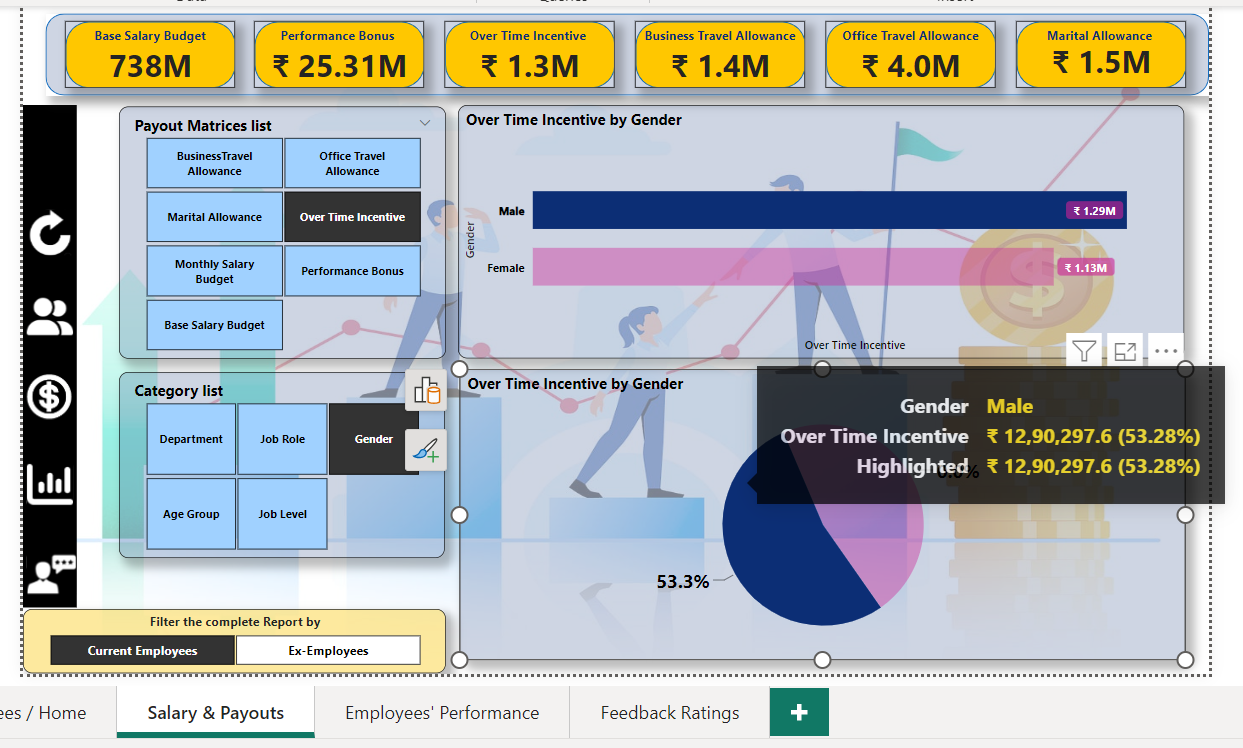

Layout of this report page (visuals, bound fields, positions):
{"tool":"powerbi","page":{"name":"Salary & Payouts","canvas":[1280,720],"ordinal":1},"visuals":[{"type":"shape","title":"backgroung","box":[24.3,8.1,1255,88.3],"z":0,"group":"g2"},{"type":"shape","box":[45.6,16.1,183.3,71.7],"z":0,"group":"g1"},{"type":"shape","box":[249.6,16.7,183.3,71.7],"z":0,"group":"g6"},{"type":"shape","box":[455,16.7,183.3,71.7],"z":0,"group":"g5"},{"type":"shape","box":[660.9,16.7,183.3,71.7],"z":0,"group":"g7"},{"type":"shape","box":[865.6,16.7,183.3,71.7],"z":0,"group":"g4"},{"type":"shape","box":[1071,16.7,183.3,71.7],"z":0,"group":"g3"},{"type":"actionButton","box":[0,212,58.2,64.7],"z":0,"group":"g8"},{"type":"slicer","title":"Filter the complete Report by","fields":{"Values":["Employees.attrition label"]},"box":[0,650.4,456.3,69.6],"z":0},{"type":"group","id":"g1","title":"Group 2","box":[45.6,16.1,183.3,71.7],"z":1000,"group":"g2"},{"type":"textbox","box":[45.6,16.1,183.3,36.7],"z":1000,"group":"g1"},{"type":"textbox","box":[249.6,16.7,183.3,36.7],"z":1000,"group":"g6"},{"type":"textbox","box":[455,16.7,183.3,36.7],"z":1000,"group":"g5"},{"type":"textbox","box":[660.3,16.7,183.3,36.7],"z":1000,"group":"g7"},{"type":"textbox","box":[865.6,16.7,183.3,36.7],"z":1000,"group":"g4"},{"type":"textbox","box":[1071,16.7,183.3,36.7],"z":1000,"group":"g3"},{"type":"shape","box":[0,106.8,58.2,542],"z":1000},{"type":"actionButton","box":[0,305.8,58.2,58.2],"z":1000,"group":"g8"},{"type":"group","id":"g2","title":"Group 3","box":[24.3,8.1,1255,88.3],"z":2000},{"type":"group","id":"g3","title":"Group 2","box":[1071,16.7,183.3,71.7],"z":2000,"group":"g2"},{"type":"card","title":"card","fields":{"Values":["Measures Table.$ Marital Allowance Paid Amount"]},"box":[1071.6,36.5,183.3,46.7],"z":2000,"group":"g3"},{"type":"card","title":"card","fields":{"Values":["Measures Table.$ yearly (base) Salary Budget"]},"box":[45.6,41.1,183.3,46.7],"z":2000,"group":"g1"},{"type":"card","title":"card","fields":{"Values":["Measures Table.$ Performance Bonus amount Paid"]},"box":[249.6,41.7,183.3,46.7],"z":2000,"group":"g6"},{"type":"card","title":"card","fields":{"Values":["Measures Table.$ Over Time Incentive Amount Paid"]},"box":[455,41.7,183.3,46.7],"z":2000,"group":"g5"},{"type":"card","title":"card","fields":{"Values":["Measures Table.$ BusinessTravel Allowance Paid Amount"]},"box":[660.3,41.7,183.3,46.7],"z":2000,"group":"g7"},{"type":"card","title":"card","fields":{"Values":["Measures Table.$ Office Travel Allowance Paid Amount"]},"box":[865.6,41.7,183.3,46.7],"z":2000,"group":"g4"},{"type":"actionButton","box":[0,393.2,58.2,56.6],"z":2000,"group":"g8"},{"type":"group","id":"g4","title":"Group 2","box":[865.6,16.7,183.3,71.7],"z":3000,"group":"g2"},{"type":"slicer","fields":{"Values":["#Parameter set of Payout Matrices.#Parameter set of Payout Matrices"]},"box":[103.6,108.4,352.7,271.8],"z":3000},{"type":"actionButton","box":[0,479,58.2,74.4],"z":3000,"group":"g8"},{"type":"group","id":"g5","title":"Group 2","box":[455,16.7,183.3,71.7],"z":4000,"group":"g2"},{"type":"barChart","fields":{"Y":["Measures Table.$ yearly (base) Salary Budget"],"Category":["Employees.Gender"]},"box":[469.2,106.8,784.7,273.4],"z":4000},{"type":"actionButton","box":[0,582.5,69.6,61.5],"z":4000,"group":"g8"},{"type":"group","id":"g6","title":"Group 2","box":[249.6,16.7,183.3,71.7],"z":5000,"group":"g2"},{"type":"slicer","fields":{"Values":["#Parameter- Category list.#Parameter- Category list"]},"box":[105.2,391.6,351.1,200.6],"z":5000},{"type":"group","id":"g7","title":"Business Travel payout","box":[660.3,16.7,183.3,71.7],"z":6000,"group":"g2"},{"type":"pieChart","fields":{"Y":["Measures Table.$ yearly (base) Salary Budget"],"Category":["Employees.Gender"]},"box":[470.8,391.6,783.1,313.9],"z":6000},{"type":"group","id":"g8","title":"Group 6","box":[0,212,69.6,432],"z":7000}]}

Visuals, with their boxes on the page's 1280x720 design canvas (x1, y1, x2, y2). These are canvas units, not pixel positions in the 1243x748 screenshot, which may show the page scaled, cropped or inside an application window:
"backgroung" shape: {"left": 24, "top": 8, "right": 1279, "bottom": 96}
shape: {"left": 46, "top": 16, "right": 229, "bottom": 88}
shape: {"left": 250, "top": 17, "right": 433, "bottom": 88}
shape: {"left": 455, "top": 17, "right": 638, "bottom": 88}
shape: {"left": 661, "top": 17, "right": 844, "bottom": 88}
shape: {"left": 866, "top": 17, "right": 1049, "bottom": 88}
shape: {"left": 1071, "top": 17, "right": 1254, "bottom": 88}
actionButton: {"left": 0, "top": 212, "right": 58, "bottom": 277}
"Filter the complete Report by" slicer: {"left": 0, "top": 650, "right": 456, "bottom": 720}
"Group 2" group: {"left": 46, "top": 16, "right": 229, "bottom": 88}
textbox: {"left": 46, "top": 16, "right": 229, "bottom": 53}
textbox: {"left": 250, "top": 17, "right": 433, "bottom": 53}
textbox: {"left": 455, "top": 17, "right": 638, "bottom": 53}
textbox: {"left": 660, "top": 17, "right": 844, "bottom": 53}
textbox: {"left": 866, "top": 17, "right": 1049, "bottom": 53}
textbox: {"left": 1071, "top": 17, "right": 1254, "bottom": 53}
shape: {"left": 0, "top": 107, "right": 58, "bottom": 649}
actionButton: {"left": 0, "top": 306, "right": 58, "bottom": 364}
"Group 3" group: {"left": 24, "top": 8, "right": 1279, "bottom": 96}
"Group 2" group: {"left": 1071, "top": 17, "right": 1254, "bottom": 88}
"card" card: {"left": 1072, "top": 36, "right": 1255, "bottom": 83}
"card" card: {"left": 46, "top": 41, "right": 229, "bottom": 88}
"card" card: {"left": 250, "top": 42, "right": 433, "bottom": 88}
"card" card: {"left": 455, "top": 42, "right": 638, "bottom": 88}
"card" card: {"left": 660, "top": 42, "right": 844, "bottom": 88}
"card" card: {"left": 866, "top": 42, "right": 1049, "bottom": 88}
actionButton: {"left": 0, "top": 393, "right": 58, "bottom": 450}
"Group 2" group: {"left": 866, "top": 17, "right": 1049, "bottom": 88}
slicer - #Parameter set of Payout Matrices.#Parameter set of Payout Matrices: {"left": 104, "top": 108, "right": 456, "bottom": 380}
actionButton: {"left": 0, "top": 479, "right": 58, "bottom": 553}
"Group 2" group: {"left": 455, "top": 17, "right": 638, "bottom": 88}
barChart - Measures Table.$ yearly (base) Salary Budget x Employees.Gender: {"left": 469, "top": 107, "right": 1254, "bottom": 380}
actionButton: {"left": 0, "top": 582, "right": 70, "bottom": 644}
"Group 2" group: {"left": 250, "top": 17, "right": 433, "bottom": 88}
slicer - #Parameter- Category list.#Parameter- Category list: {"left": 105, "top": 392, "right": 456, "bottom": 592}
"Business Travel payout" group: {"left": 660, "top": 17, "right": 844, "bottom": 88}
pieChart - Measures Table.$ yearly (base) Salary Budget x Employees.Gender: {"left": 471, "top": 392, "right": 1254, "bottom": 706}
"Group 6" group: {"left": 0, "top": 212, "right": 70, "bottom": 644}
